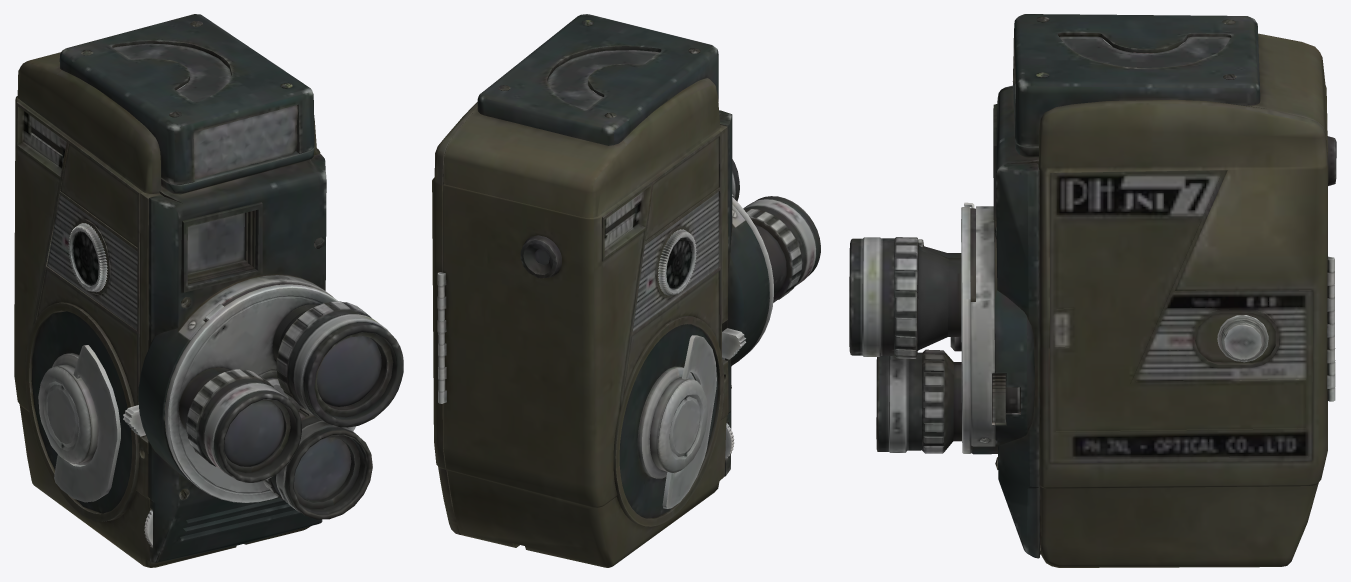
Rendered from vintage_video_camera_512.glb.
3 views of the same model, side by side, from view 1: azimuth 30°, elevation 25°; view 2: azimuth 150°, elevation 25°; view 3: azimuth 270°, elevation 25° (orthographic). The views are drawn at different scales.
Parts seen in each view (by area): view 1: vintage_video_camera; view 2: vintage_video_camera; view 3: vintage_video_camera.
Part boxes in pixels (left/top/right/bottom): vintage_video_camera: left=14, top=14, right=403, bottom=567; vintage_video_camera: left=432, top=14, right=820, bottom=567; vintage_video_camera: left=849, top=14, right=1336, bottom=567.
Bounding box in the file's own units: 0.0712 × 0.145 × 0.1326.
Materials: 2 (2 with a texture image).
